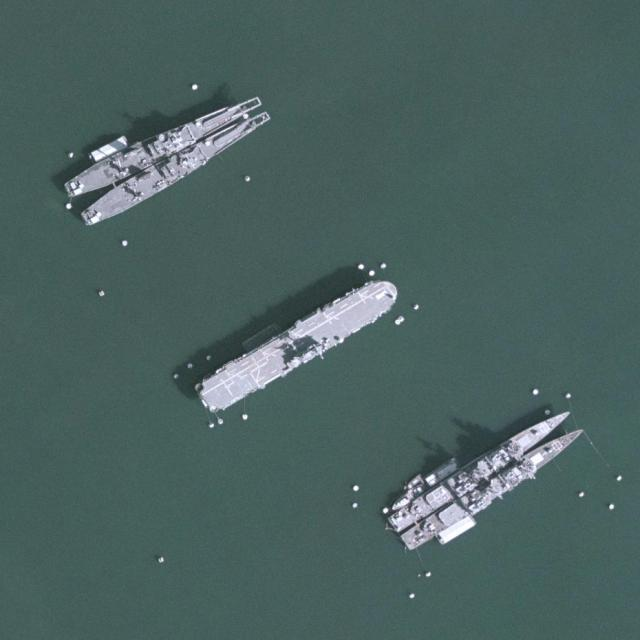Cruiser: (399, 422, 588, 551), (387, 404, 573, 532)
Landing: (191, 268, 408, 420)
Other Warship: (74, 107, 276, 231), (62, 86, 264, 204)
